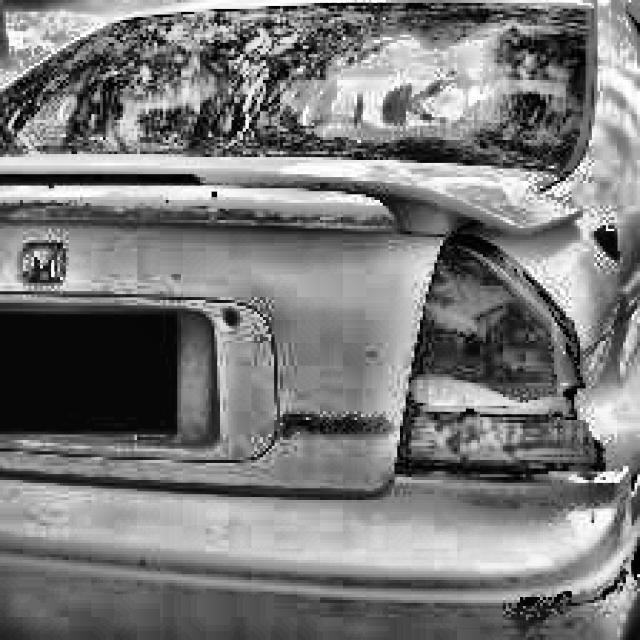tail_lamp: (418, 390, 591, 482)
